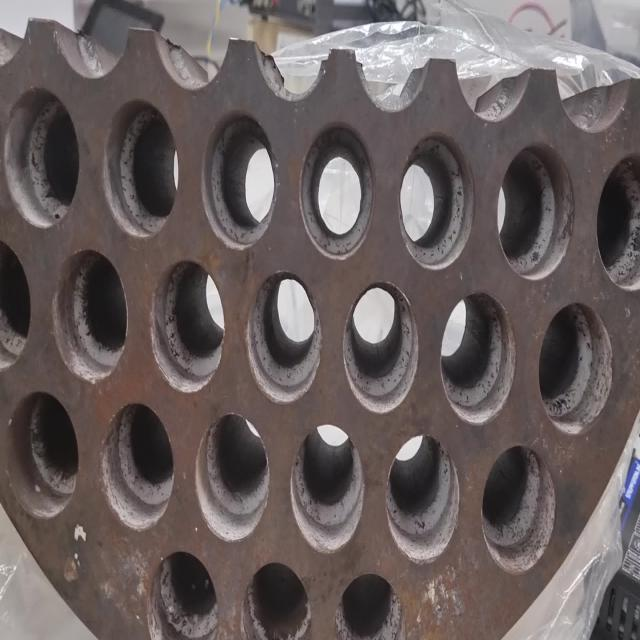Hole: (2, 86, 80, 230), (200, 109, 278, 250), (496, 142, 575, 280), (102, 98, 178, 239), (299, 120, 374, 260), (398, 132, 474, 270), (440, 289, 517, 425), (245, 268, 322, 404), (52, 247, 128, 383), (150, 258, 225, 394), (538, 300, 614, 434), (342, 281, 418, 414), (195, 411, 270, 542), (386, 433, 460, 565), (4, 389, 79, 519), (290, 424, 364, 554), (482, 444, 556, 574), (101, 401, 174, 531), (148, 549, 220, 640), (596, 151, 639, 291), (241, 560, 311, 640), (335, 570, 406, 640), (0, 238, 32, 370)
